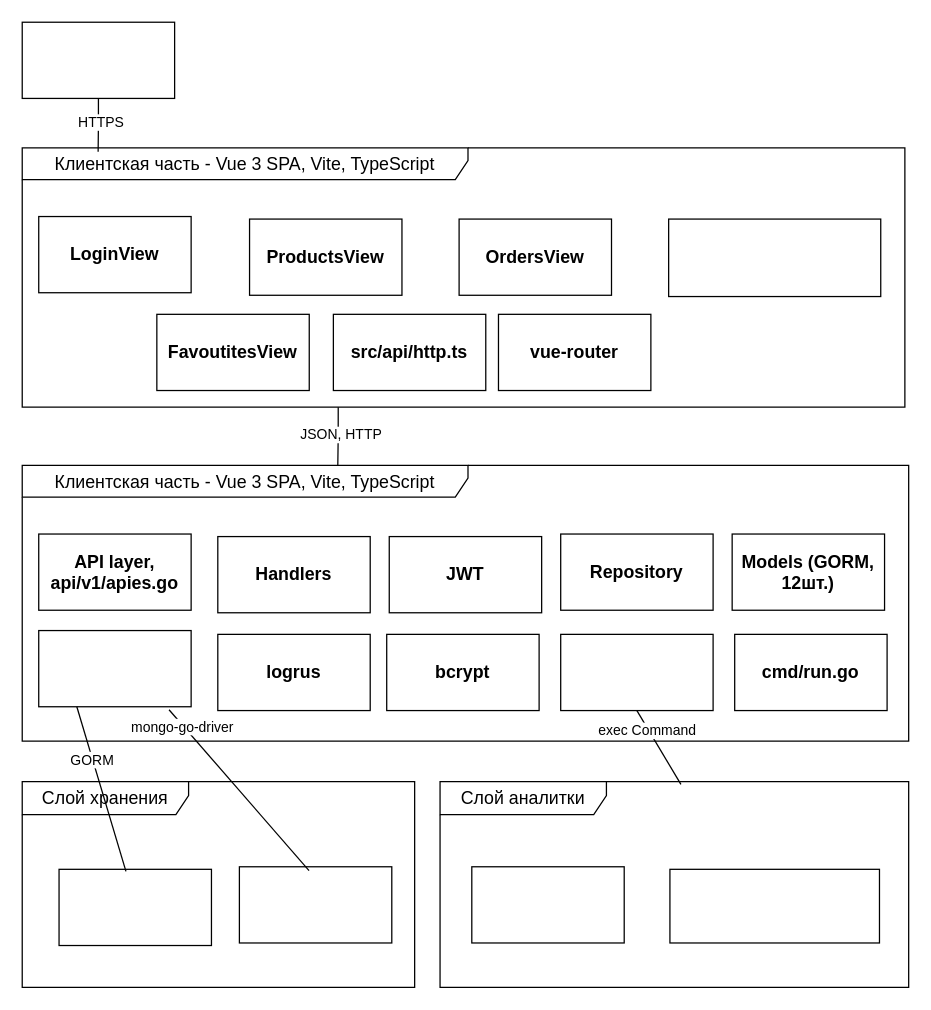
The diagram is 931 pixels wide and 1010 high, and some of its shapes have lost their labels. Each missing label, with the centre of its shape:
Database: pixel 114 668
food_recommender.py: pixel 774 905
MongoDB: pixel 315 904
PostgreSQL 16: pixel 134 907
RecommendationsView: pixel 774 257
Services: pixel 636 672
TruncatedSVD recommender.py: pixel 547 904
Пользователь Браузер: pixel 98 59
